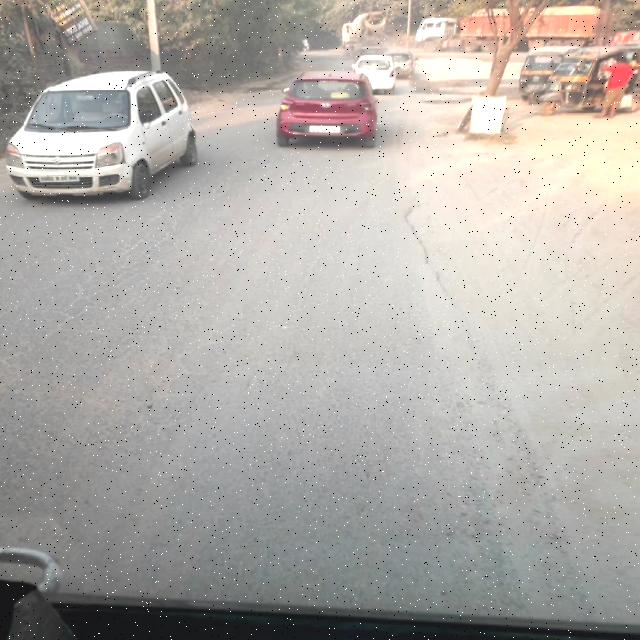D00: (401, 199, 452, 310)
D20: (1, 188, 362, 548)
